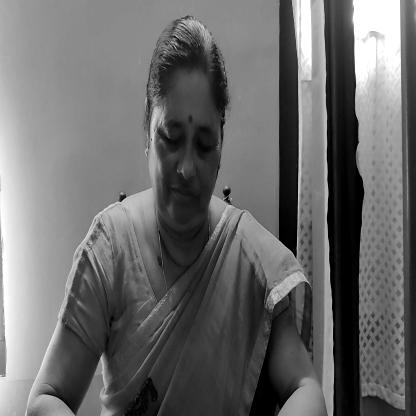Normal: (148, 16, 225, 231)
